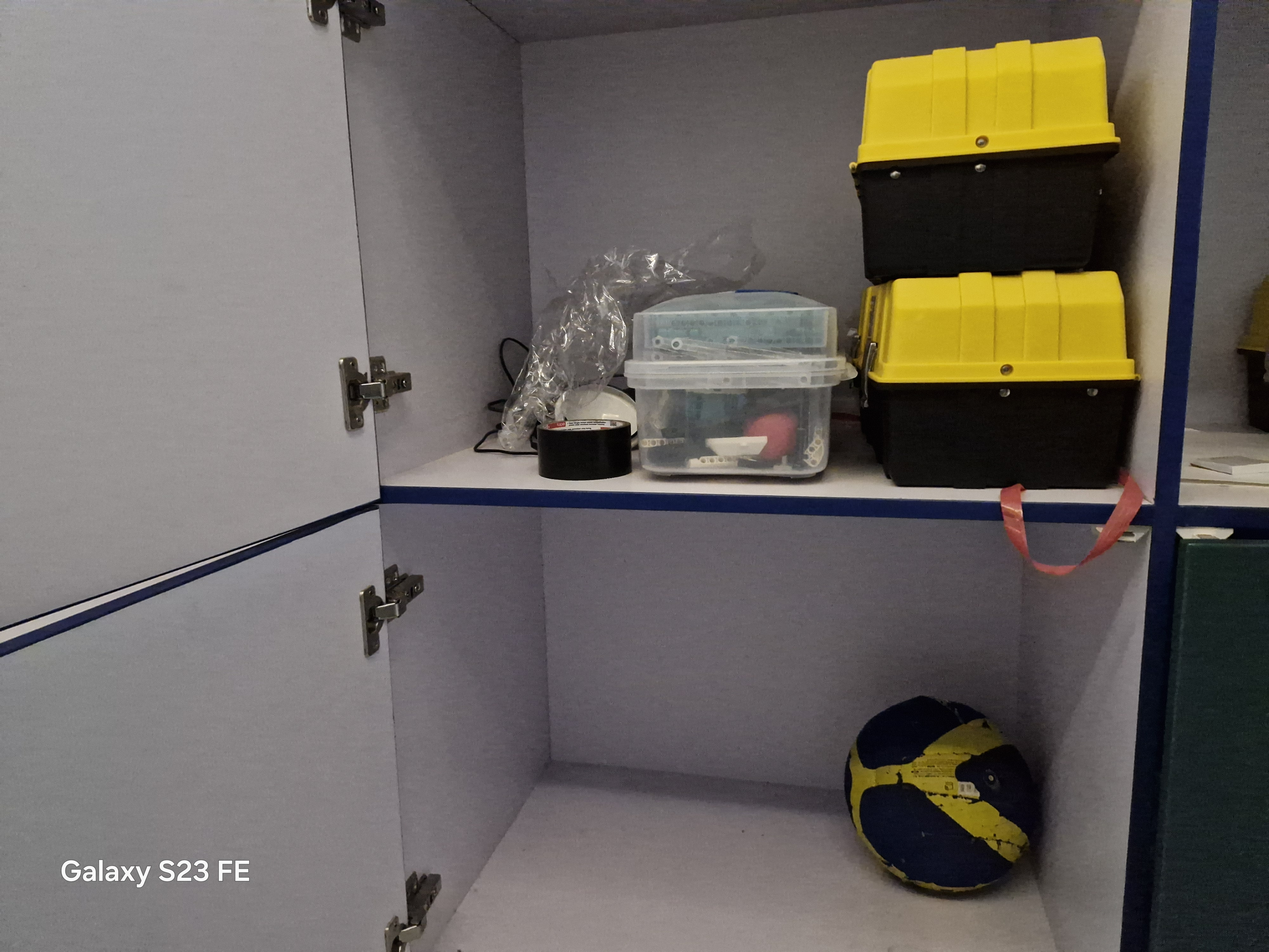box: (850, 38, 1118, 283), (853, 271, 1137, 489), (623, 291, 854, 478)
cabinet-merged: (0, 0, 1268, 951)
